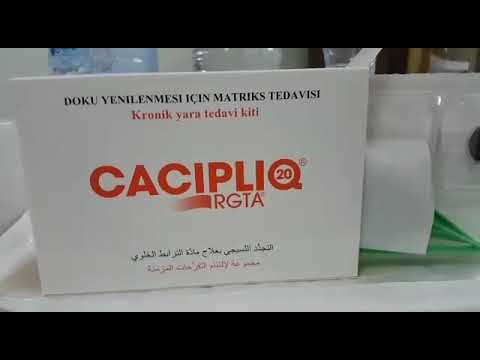Medicine: (0, 73, 377, 286)
